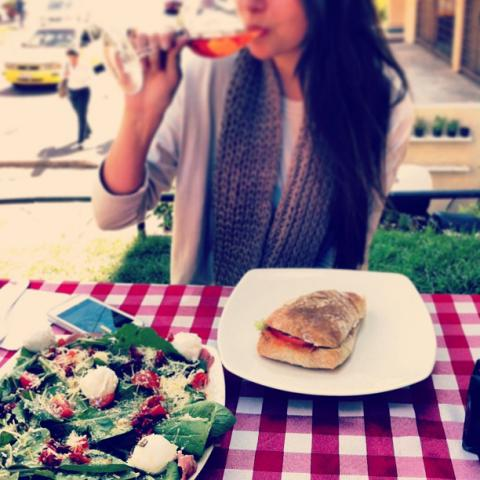car: (4, 20, 121, 84)
